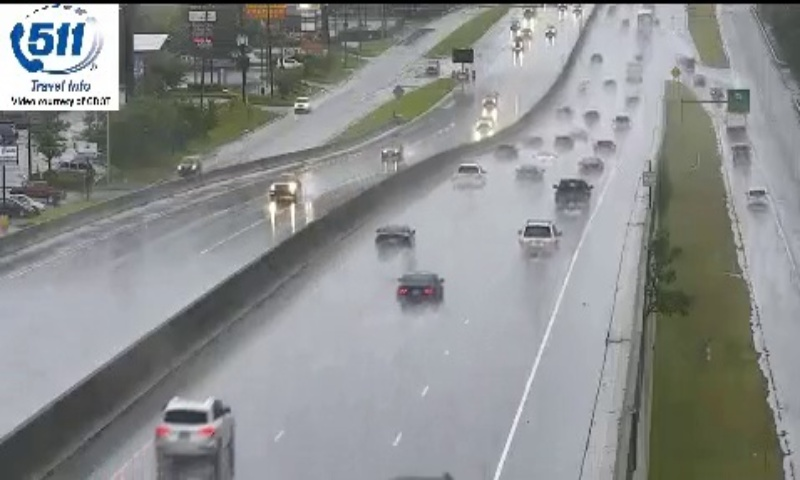car: (155, 396, 235, 457), (394, 272, 443, 306), (522, 220, 557, 257), (555, 179, 590, 209)
